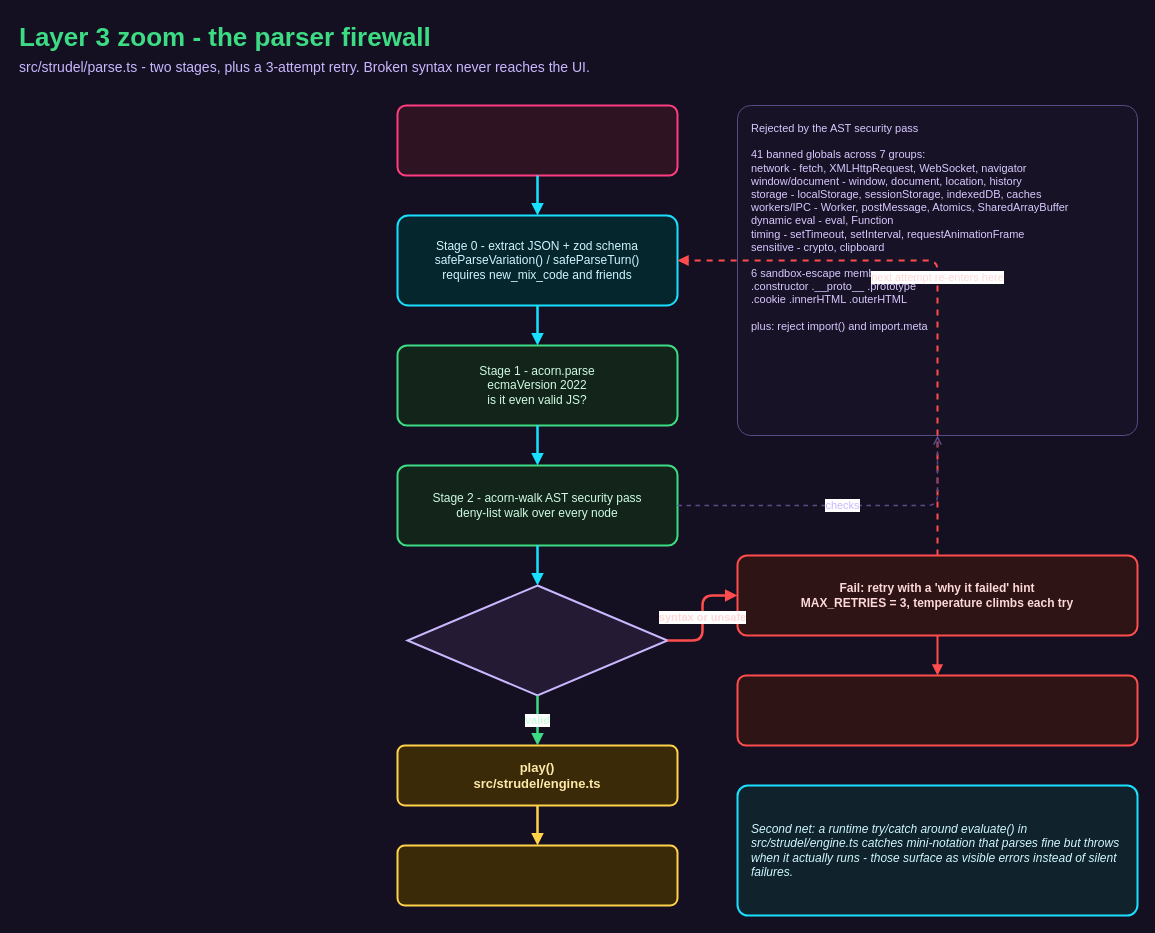
This 1155x933 diagram has some shape labels left out. Here are the shapes that lost their labels. From the top down, the centre of each, then its label:
the point at 537,140: Raw model output (a JSON string)
the point at 537,640: valid?
the point at 937,710: After 3 fails: surface a visible error broken code never reaches the UI
the point at 537,875: globalThis.evaluate() then audio
